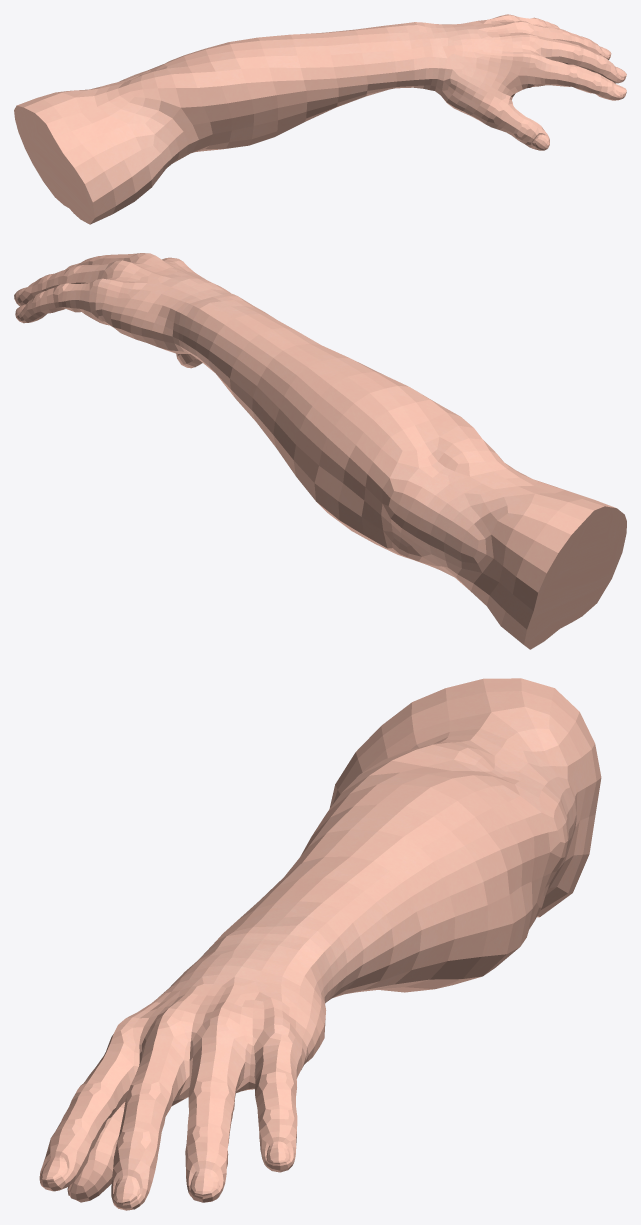
Rendered from arm.glb.
3 renders of one model, top to bottom at view 1: azimuth 30°, elevation 25°; view 2: azimuth 150°, elevation 25°; view 3: azimuth 270°, elevation 25°, orthographic. The views are drawn at different scales.
Visible parts, largest first — view 1: Man; view 2: Man; view 3: Man.
Part boxes in pixels (bbox=[...]): Man: bbox=[14, 14, 626, 224]; Man: bbox=[14, 253, 626, 649]; Man: bbox=[39, 678, 601, 1210].
Size of the model in its own units: 5.62 by 1.52 by 2.69.
Materials: 1 (1 with a texture image).
